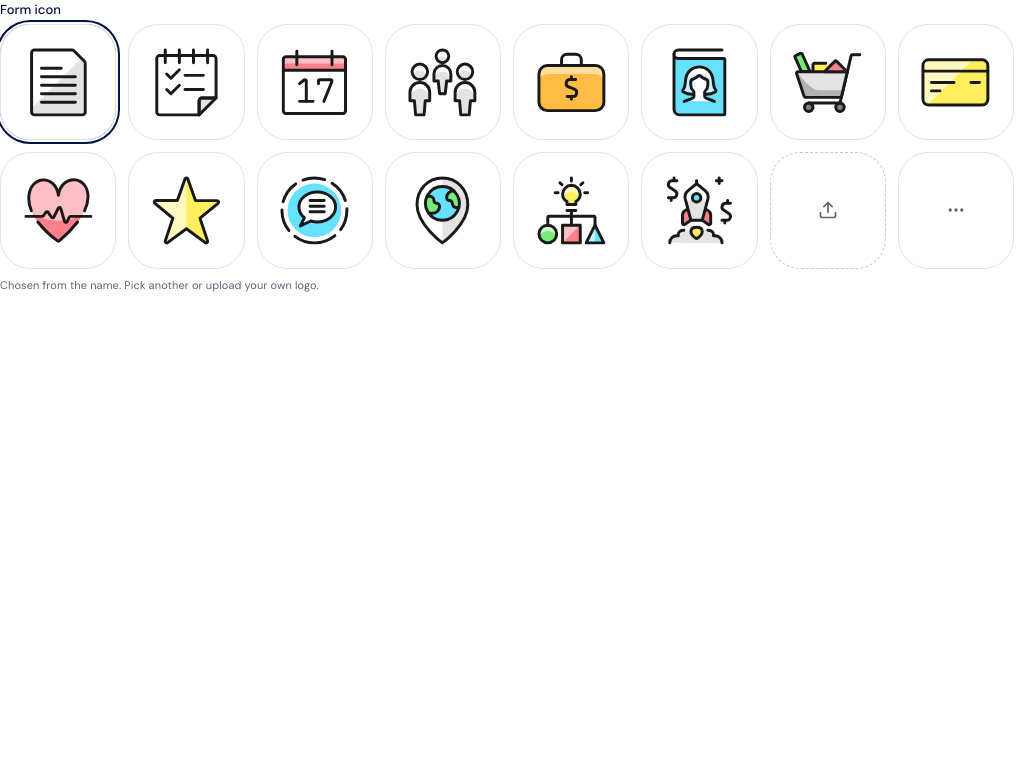
FormMarkPicker › says when nothing matches the search
Click the button named "More icons".
click(956, 210)  # box [898,152,1014,269]
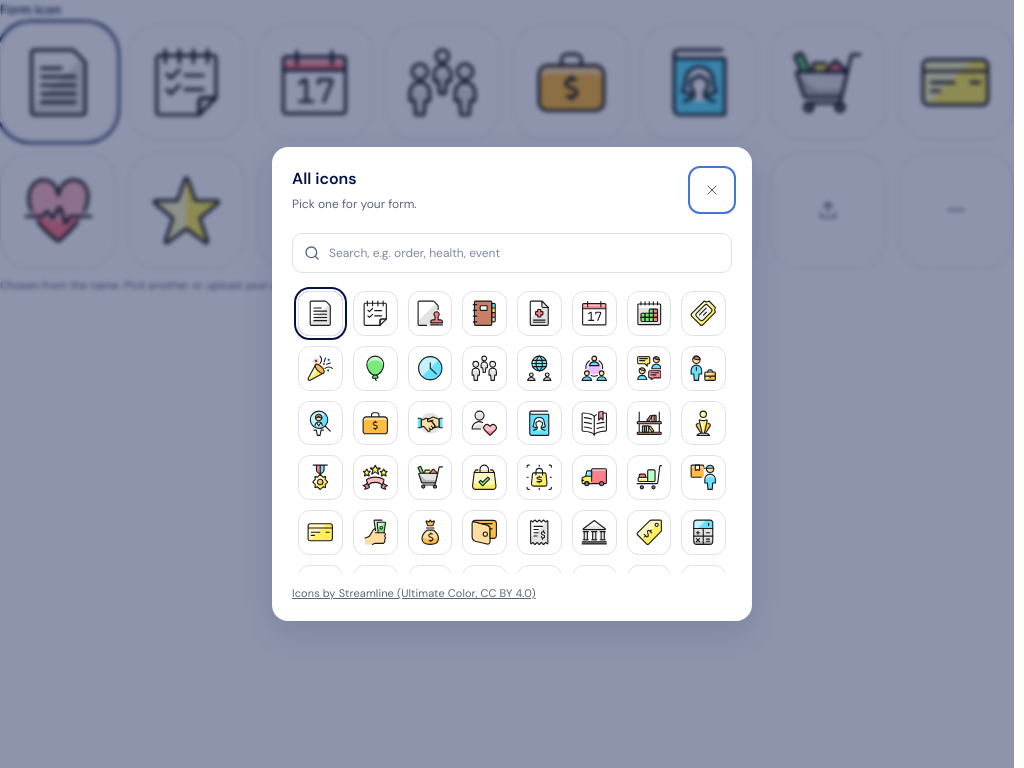
Type "zzzzqq" into the search field named "Search icons".
click(512, 253); type("zzzzqq")  # box [292,233,732,273]
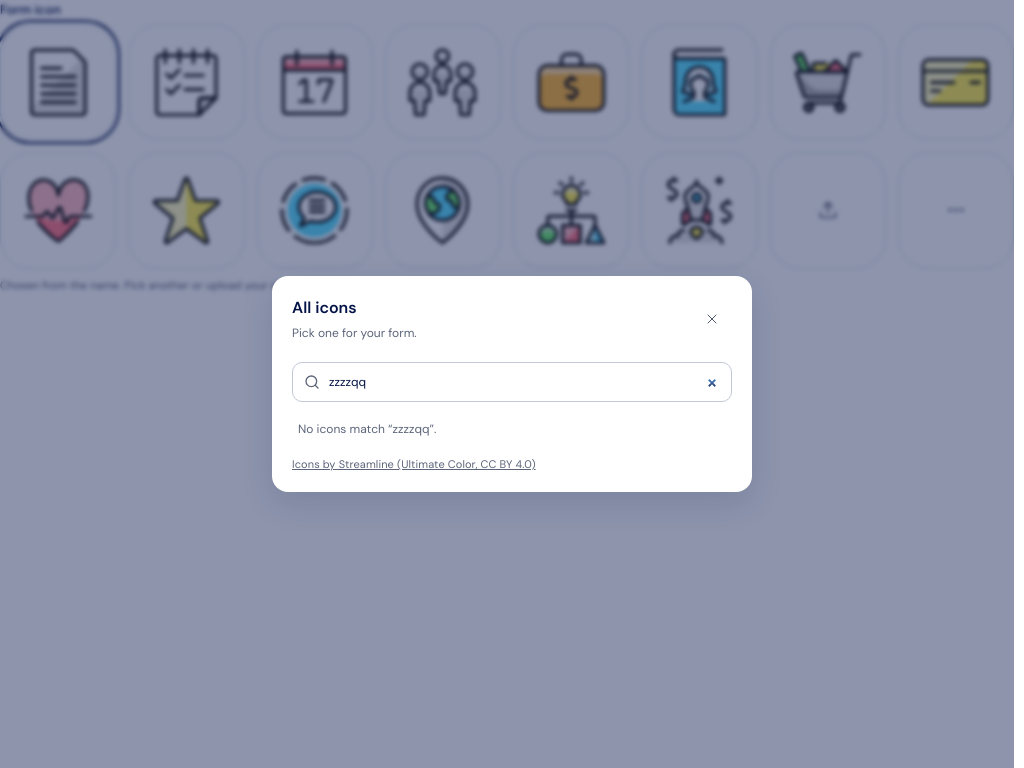
Expected: the text "No icons match “zzzzqq”." is shown, [298,421,436,437]
